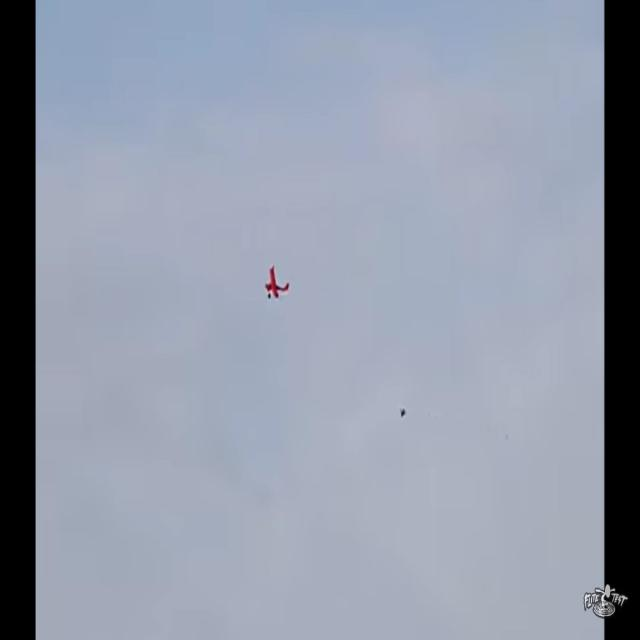iha: (264, 264, 289, 304)
